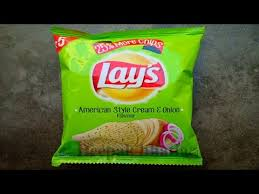lays-small-5: (48, 28, 203, 168)
